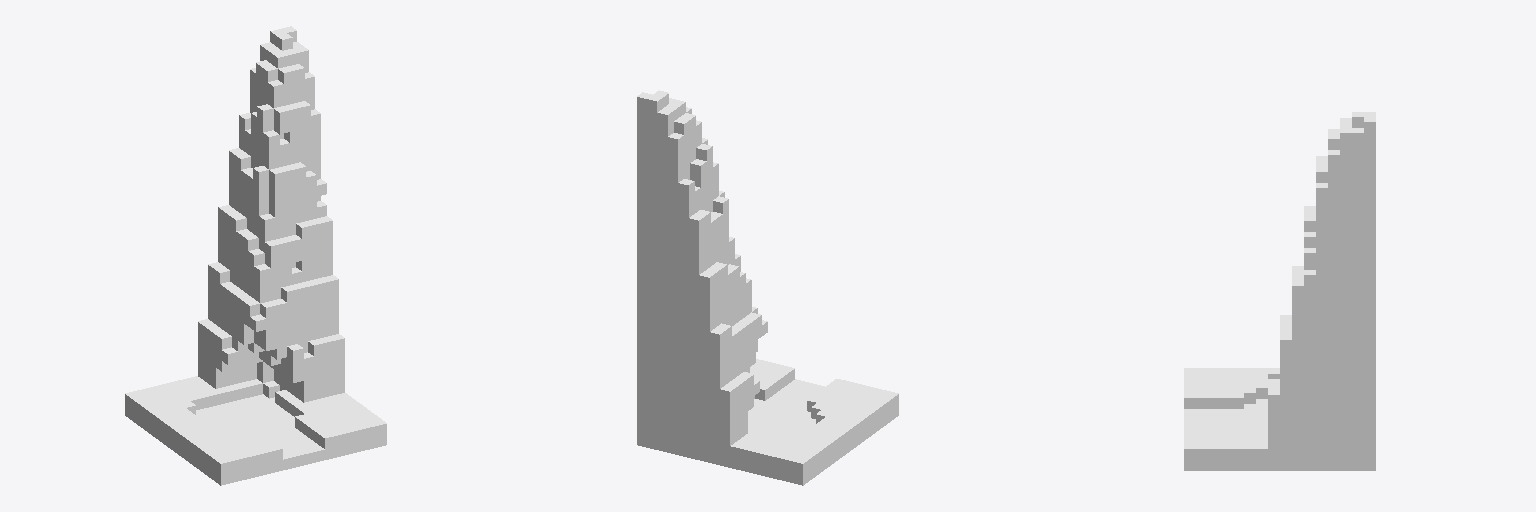
The model's file is Mountain_river_3.obj.
The picture shows the model from 3 angles: view 1: azimuth 30°, elevation 25°; view 2: azimuth 150°, elevation 25°; view 3: azimuth 270°, elevation 25°; orthographic projection.
Visible parts, largest first — view 1: object 1; view 2: object 1; view 3: object 1.
Boxes of the visible parts, box(x1,y1,x2,y2) form: object 1: box(125, 26, 386, 485); object 1: box(637, 90, 898, 485); object 1: box(1184, 112, 1375, 470).
Size of the model in its own units: 1.6 by 3.2 by 1.6.